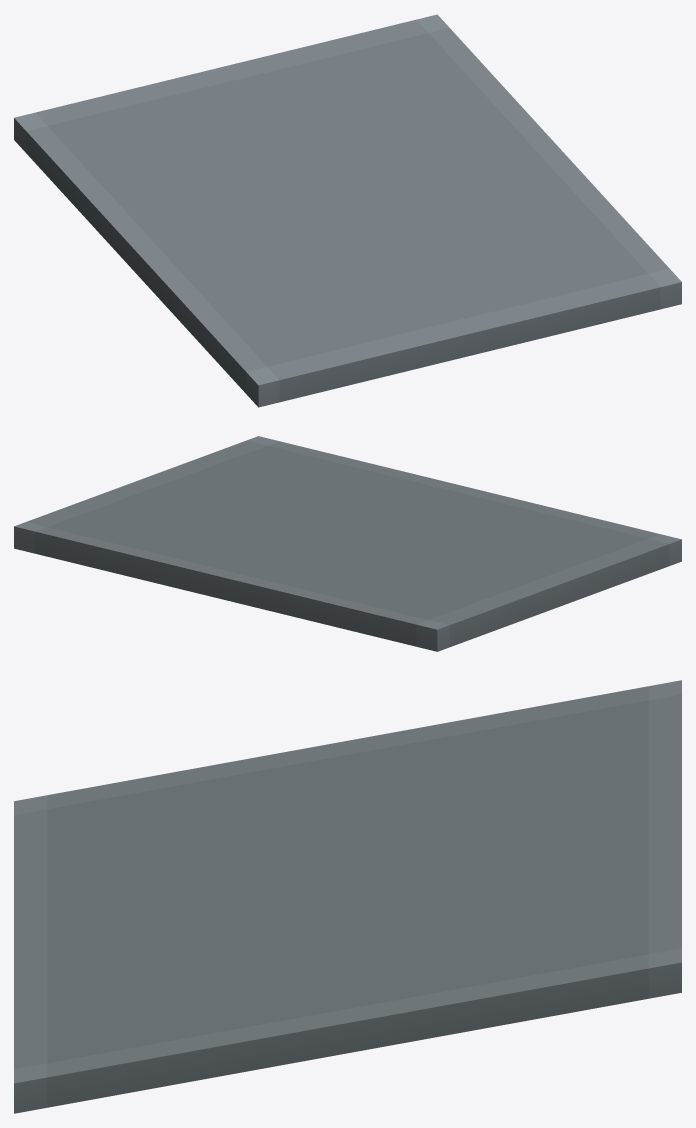
File: base_slope_1.glb
The picture shows the model from 3 angles, top to bottom: view 1: azimuth 30°, elevation 25°; view 2: azimuth 150°, elevation 25°; view 3: azimuth 270°, elevation 25°; orthographic projection. The views are drawn at different scales.
Parts seen in each view (by area): view 1: base_slope_1; view 2: base_slope_1; view 3: base_slope_1.
Boxes of the visible parts, x1,y1,x2,y2 form: base_slope_1: [14, 14, 681, 407]; base_slope_1: [14, 436, 681, 651]; base_slope_1: [14, 680, 681, 1113].
Size of what is drawn, in the model's own units: 10 by 2.5 by 10.
Materials: 1 (1 with a texture image).
